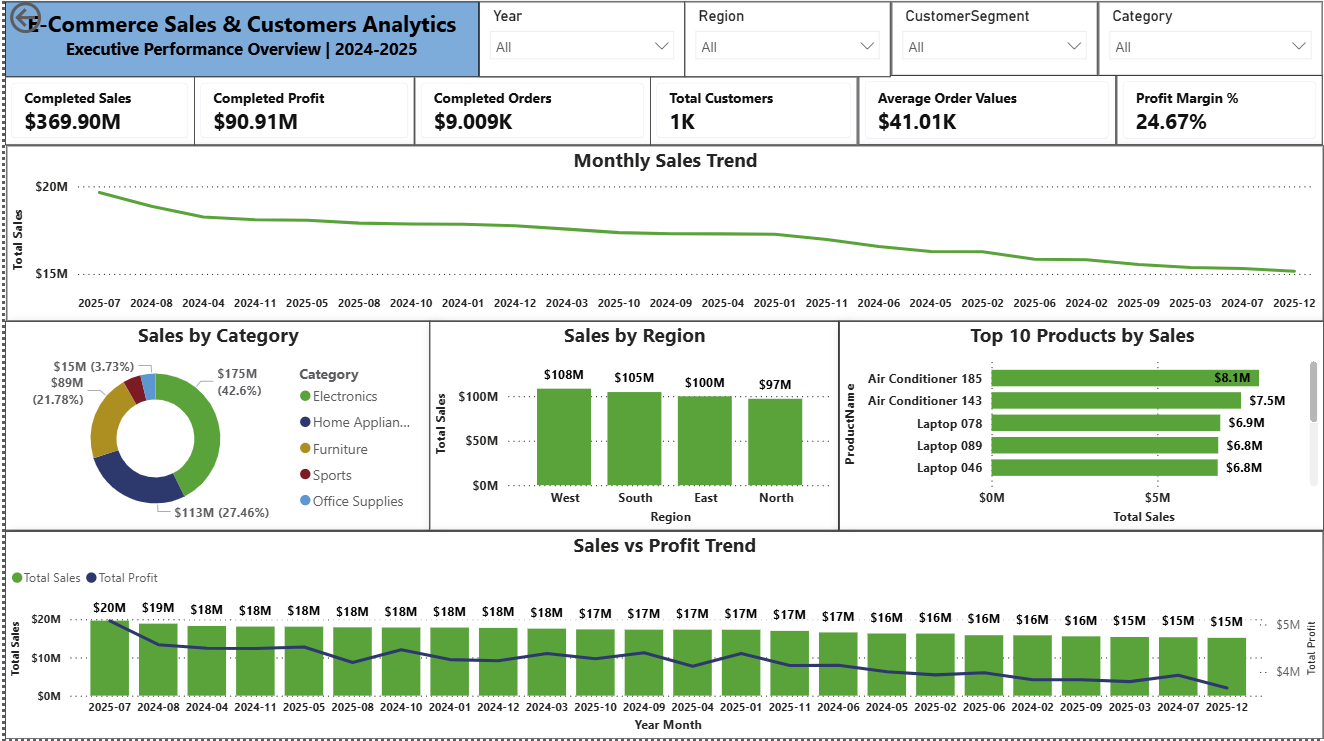

Layout of this report page (visuals, bound fields, positions):
{"tool":"powerbi","page":{"name":"Executive Dashboard","canvas":[1280,720],"ordinal":1},"visuals":[{"type":"textbox","box":[0,4.7,460,73.5],"z":0},{"type":"cardVisual","fields":{"Data":["Orders.Completed Sales"]},"box":[0,77.5,184.6,66.7],"z":1000},{"type":"cardVisual","fields":{"Data":["Orders.Completed Profit"]},"box":[183,77.5,214,66.7],"z":2000},{"type":"cardVisual","fields":{"Data":["Orders.Completed Orders"]},"box":[397,77.5,229.5,66.7],"z":3000},{"type":"cardVisual","fields":{"Data":["Orders.Total Customers"]},"box":[626.6,77.5,201.6,66.7],"z":4000},{"type":"cardVisual","fields":{"Data":["Orders.Average Order Values"]},"box":[828.2,76,249.7,68.2],"z":5000},{"type":"cardVisual","fields":{"Data":["Orders.Profit Margin %"]},"box":[1077.9,76,200.1,68.2],"z":6000},{"type":"lineChart","title":"Monthly Sales Trend","fields":{"Category":["DimDate.Year Month"],"Y":["Orders.Total Sales"]},"box":[1.6,144.2,1277.9,170.6],"z":7000},{"type":"donutChart","title":"Sales by Category","fields":{"Category":["Products.Category"],"Y":["Orders.Total Sales"]},"box":[0,314.4,412.9,203.3],"z":8000},{"type":"clusteredColumnChart","title":"Sales by Region","fields":{"Category":["Orders.Region"],"Y":["Orders.Total Sales"]},"box":[411.4,314.4,397.3,203.3],"z":9000},{"type":"barChart","title":"Top 10 Products by Sales","fields":{"Category":["Products.ProductName"],"Y":["Orders.Total Sales"]},"box":[808.7,314.4,470.8,203.3],"z":10000},{"type":"lineClusteredColumnComboChart","title":"Sales vs Profit Trend","fields":{"Category":["DimDate.Year Month"],"Y":["Orders.Total Sales"],"Y2":["Orders.Total Profit"]},"box":[0,517.7,1279.5,201.8],"z":11000},{"type":"slicer","fields":{"Values":["DimDate.Year"]},"box":[459.9,4.7,200.2,73],"z":12000},{"type":"slicer","fields":{"Values":["Regions.Region"]},"box":[660.1,4.7,200.2,73],"z":13000},{"type":"slicer","fields":{"Values":["Products.Category"]},"box":[1060.5,4.7,217.4,72],"z":14000},{"type":"slicer","fields":{"Values":["Customers.CustomerSegment"]},"box":[860.3,4.7,200.2,72],"z":15000},{"type":"actionButton","box":[0,0,100,40],"z":15001}]}

Visuals, with their boxes in screenshot pixels (x1, y1, x2, y2), scaled from the page's 1280x720 canvas onto the 1324x741 screenshot:
textbox: BBox(0, 5, 476, 80)
cardVisual - Orders.Completed Sales: BBox(0, 80, 191, 148)
cardVisual - Orders.Completed Profit: BBox(189, 80, 411, 148)
cardVisual - Orders.Completed Orders: BBox(411, 80, 648, 148)
cardVisual - Orders.Total Customers: BBox(648, 80, 857, 148)
cardVisual - Orders.Average Order Values: BBox(857, 78, 1115, 148)
cardVisual - Orders.Profit Margin %: BBox(1115, 78, 1322, 148)
"Monthly Sales Trend" lineChart: BBox(2, 148, 1323, 324)
"Sales by Category" donutChart: BBox(0, 324, 427, 533)
"Sales by Region" clusteredColumnChart: BBox(426, 324, 836, 533)
"Top 10 Products by Sales" barChart: BBox(836, 324, 1323, 533)
"Sales vs Profit Trend" lineClusteredColumnComboChart: BBox(0, 533, 1323, 740)
slicer - DimDate.Year: BBox(476, 5, 683, 80)
slicer - Regions.Region: BBox(683, 5, 890, 80)
slicer - Products.Category: BBox(1097, 5, 1322, 79)
slicer - Customers.CustomerSegment: BBox(890, 5, 1097, 79)
actionButton: BBox(0, 0, 103, 41)
